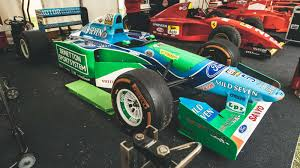FormulaOneCar: (15, 1, 290, 161), (122, 1, 293, 58)
